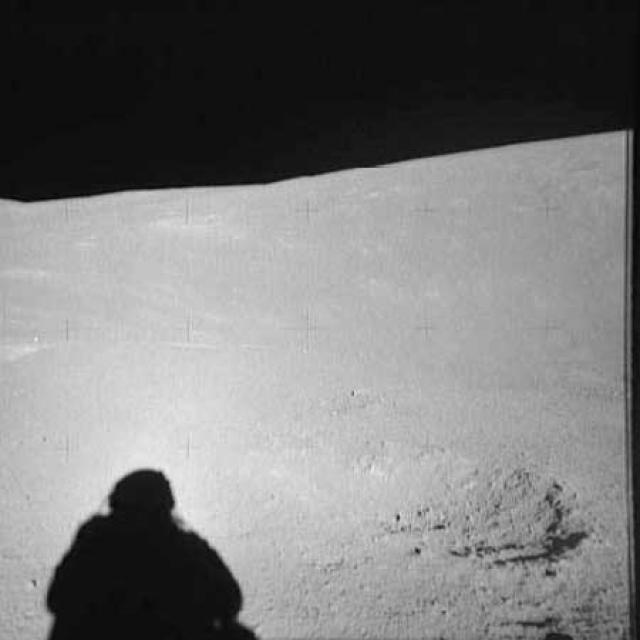crater: (298, 430, 596, 576)
